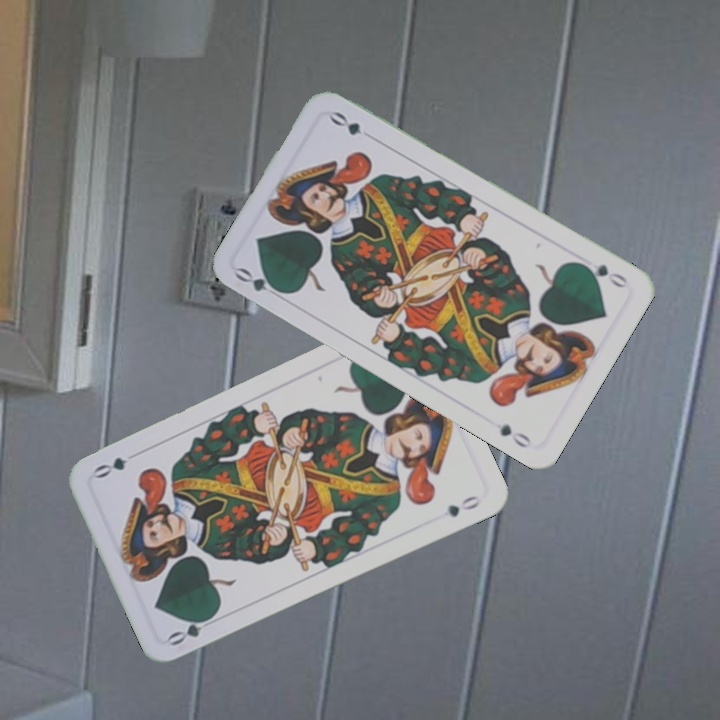GO: (164, 609, 221, 649), (231, 263, 288, 302), (575, 258, 631, 292)
